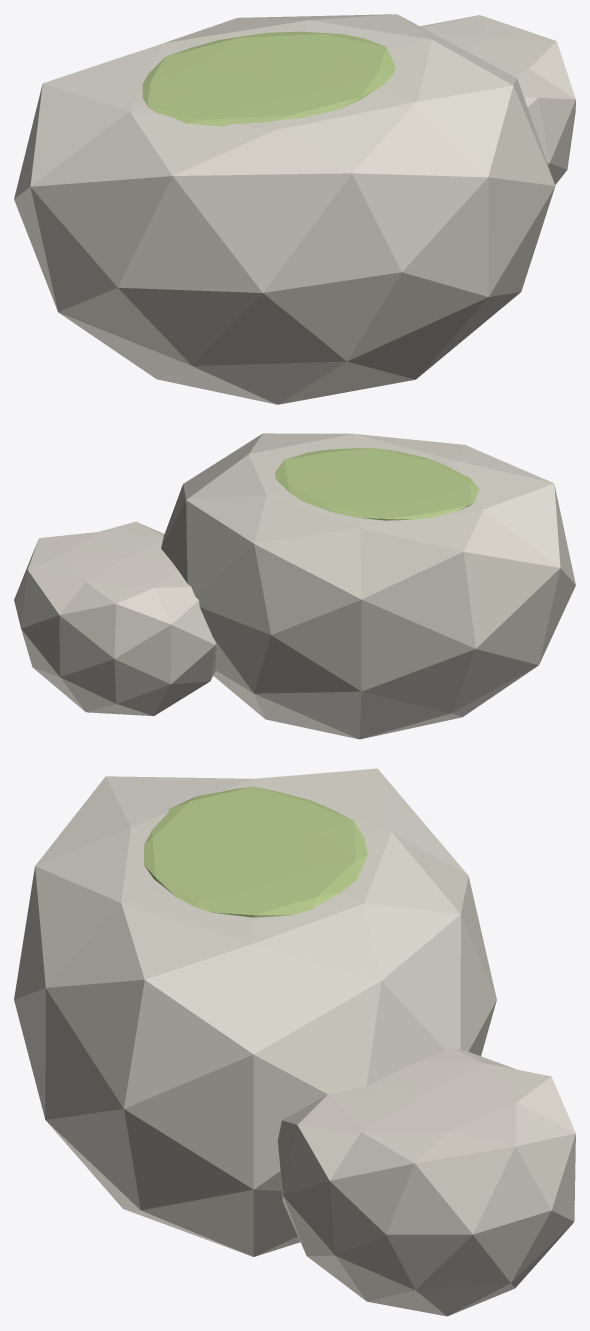
Rendered from rocha_grande_0.fbx.
3 renders of one model, top to bottom at view 1: azimuth 30°, elevation 25°; view 2: azimuth 150°, elevation 25°; view 3: azimuth 270°, elevation 25°, orthographic. The views are drawn at different scales.
Parts seen in each view (by area): view 1: rocha_grande_0~Bloco 0@stone, rocha_grande_0~Musgo@moss, rocha_grande_0~Bloco 1@stonedark; view 2: rocha_grande_0~Bloco 0@stone, rocha_grande_0~Bloco 1@stonedark, rocha_grande_0~Musgo@moss; view 3: rocha_grande_0~Bloco 0@stone, rocha_grande_0~Bloco 1@stonedark, rocha_grande_0~Musgo@moss.
Boxes of the visible parts, x1=… form: rocha_grande_0~Bloco 0@stone: x1=14, y1=14, x2=555, y2=404; rocha_grande_0~Musgo@moss: x1=142, y1=31, x2=395, y2=126; rocha_grande_0~Bloco 1@stonedark: x1=420, y1=15, x2=575, y2=184; rocha_grande_0~Bloco 0@stone: x1=161, y1=433, x2=575, y2=739; rocha_grande_0~Bloco 1@stonedark: x1=14, y1=521, x2=216, y2=716; rocha_grande_0~Musgo@moss: x1=275, y1=448, x2=479, y2=520; rocha_grande_0~Bloco 0@stone: x1=14, y1=768, x2=496, y2=1256; rocha_grande_0~Bloco 1@stonedark: x1=277, y1=1047, x2=575, y2=1316; rocha_grande_0~Musgo@moss: x1=144, y1=786, x2=367, y2=917.
Size of the model in its own units: 2.06 by 1.04 by 1.5.
